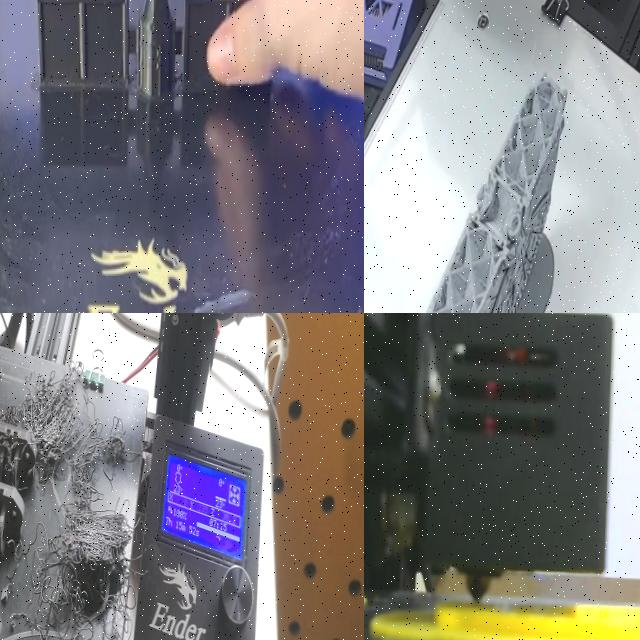spaghetti: (0, 359, 141, 496), (25, 496, 136, 640)
